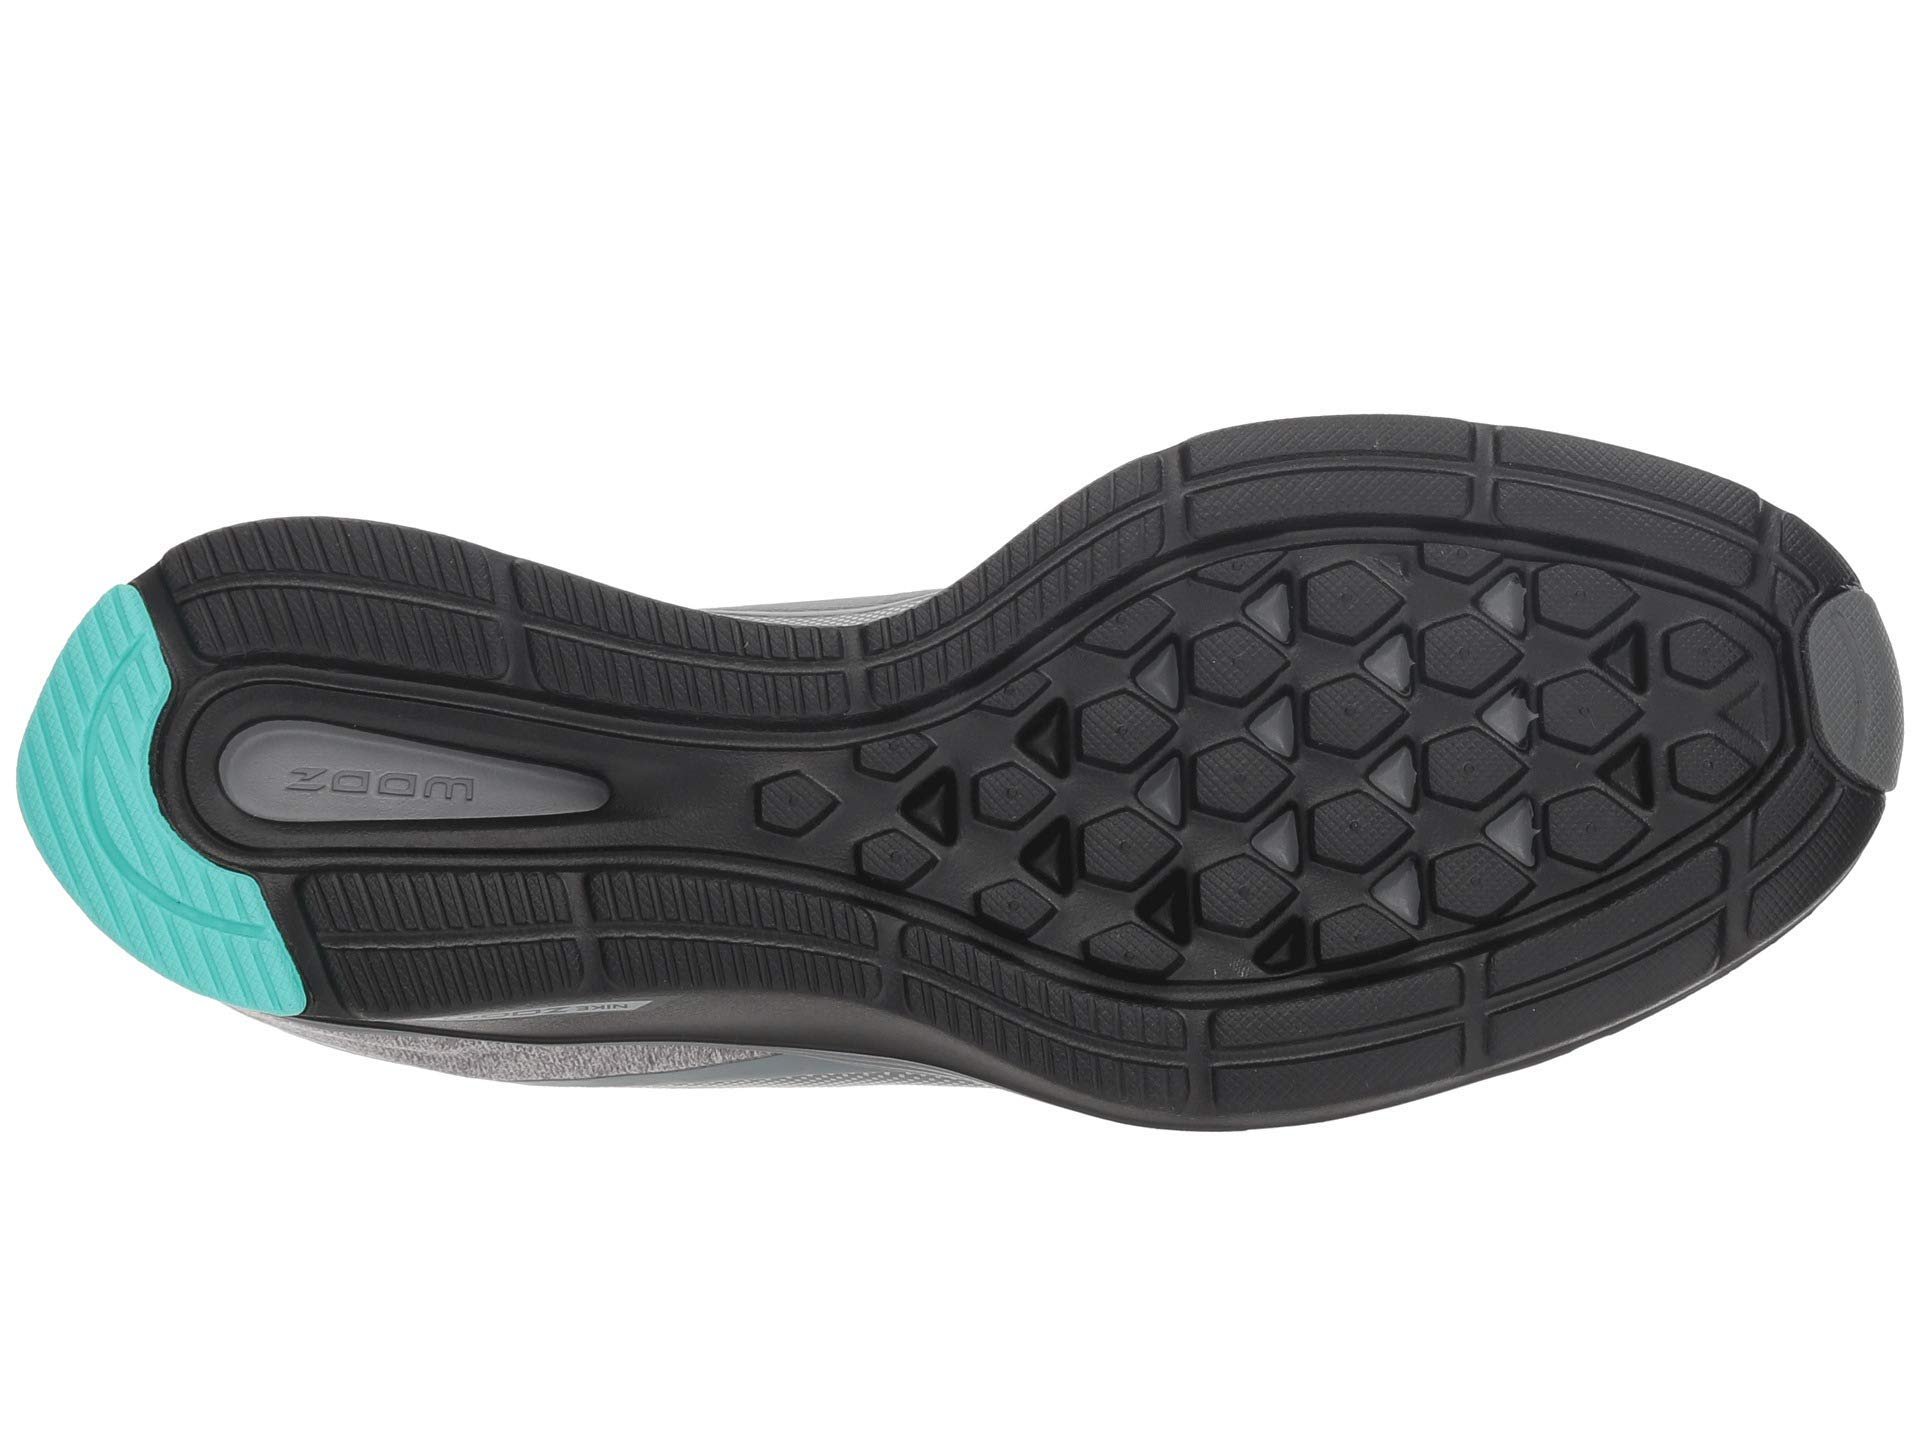polygon: (683, 623, 1054, 967), (1152, 569, 1438, 974), (1426, 776, 1749, 1109), (1494, 538, 1782, 793)
quad: (683, 623, 1054, 967), (1426, 776, 1749, 1109), (255, 489, 541, 709), (206, 690, 506, 885)
text: (206, 690, 506, 885)
triangle: (683, 623, 1054, 967), (1152, 569, 1438, 974), (1426, 776, 1749, 1109), (1494, 538, 1782, 793)
